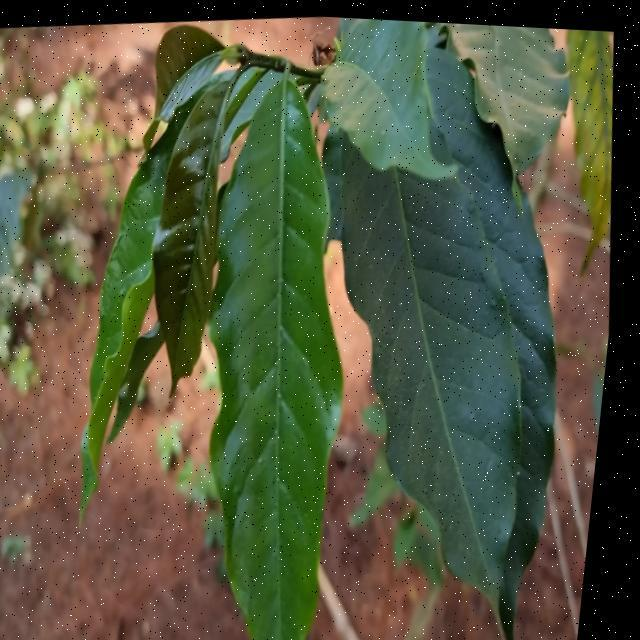leaves: (322, 125, 560, 610), (207, 76, 345, 640)
